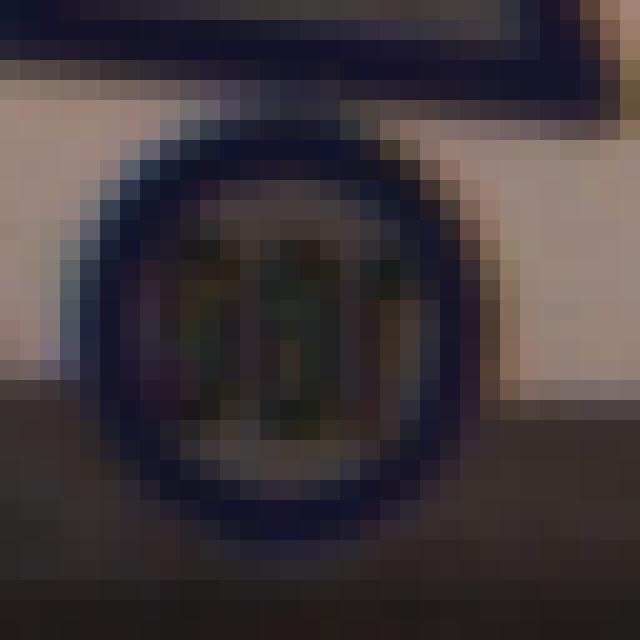SPEED LIMIT 100: (62, 133, 496, 524)
